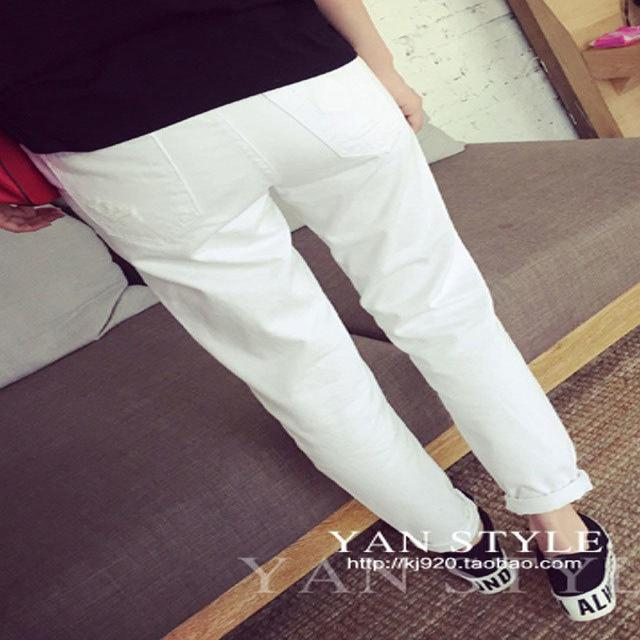trousers: (42, 80, 612, 582)
